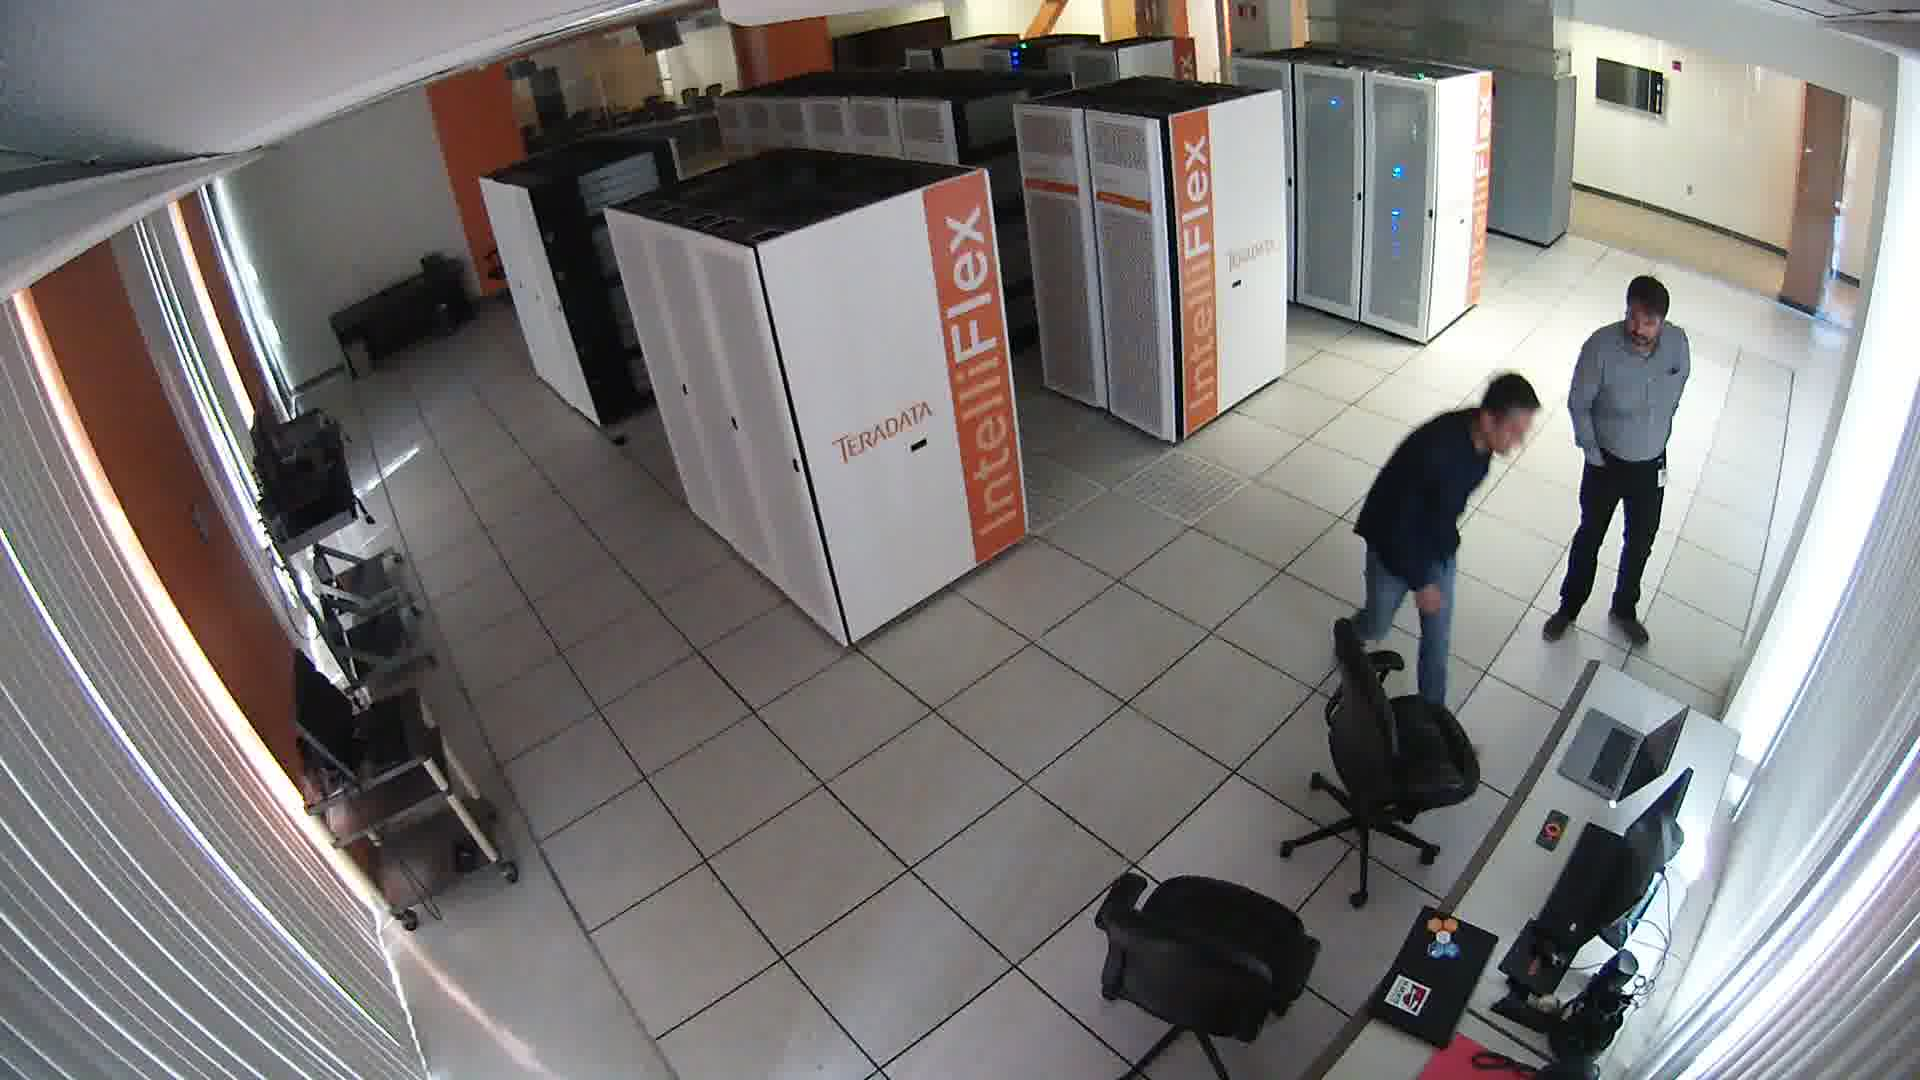person: (1356, 355, 1530, 724), (1554, 288, 1724, 659)
